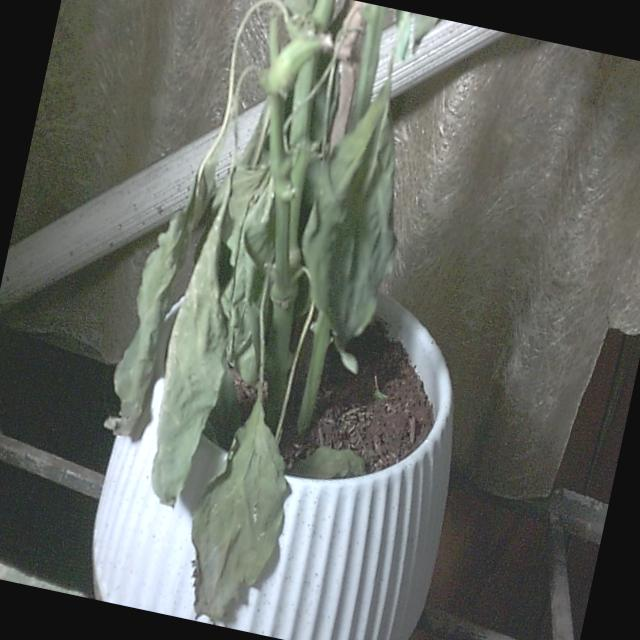Leaf: (274, 78, 429, 379), (135, 210, 260, 512), (100, 144, 218, 446), (172, 398, 308, 634)
